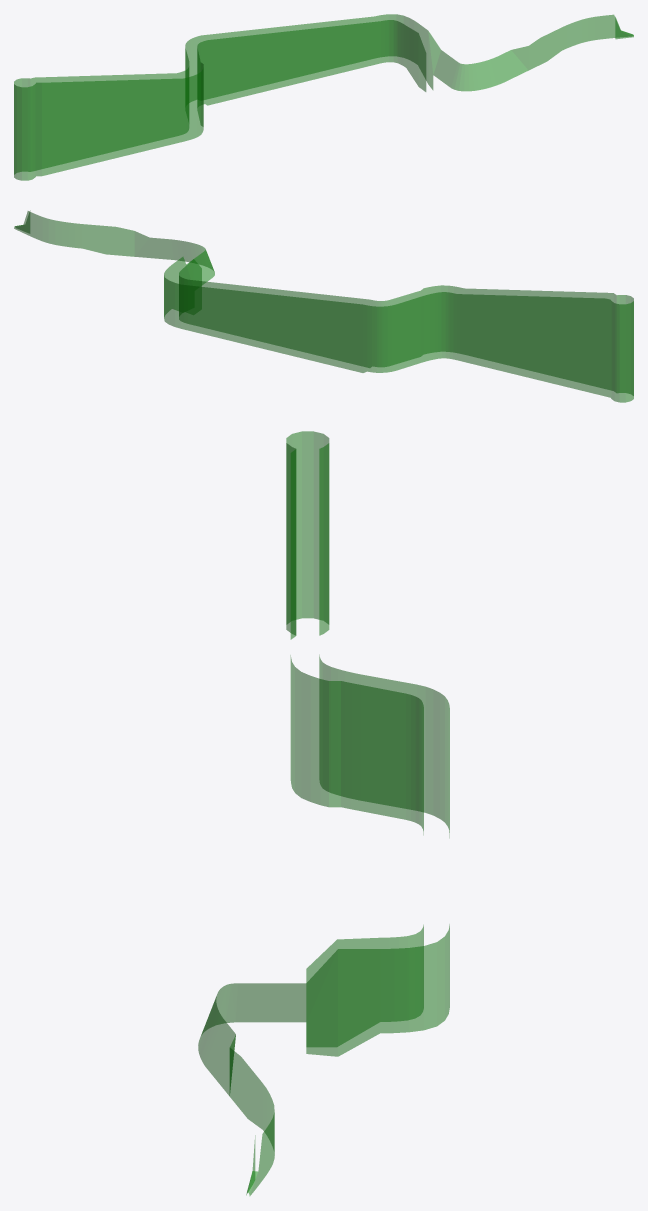
The model's file is wall3.obj.
3 renders of one model, top to bottom at view 1: azimuth 30°, elevation 25°; view 2: azimuth 150°, elevation 25°; view 3: azimuth 270°, elevation 25°, orthographic. The views are drawn at different scales.
Size of the model in its own units: 1351 by 230 by 244.
